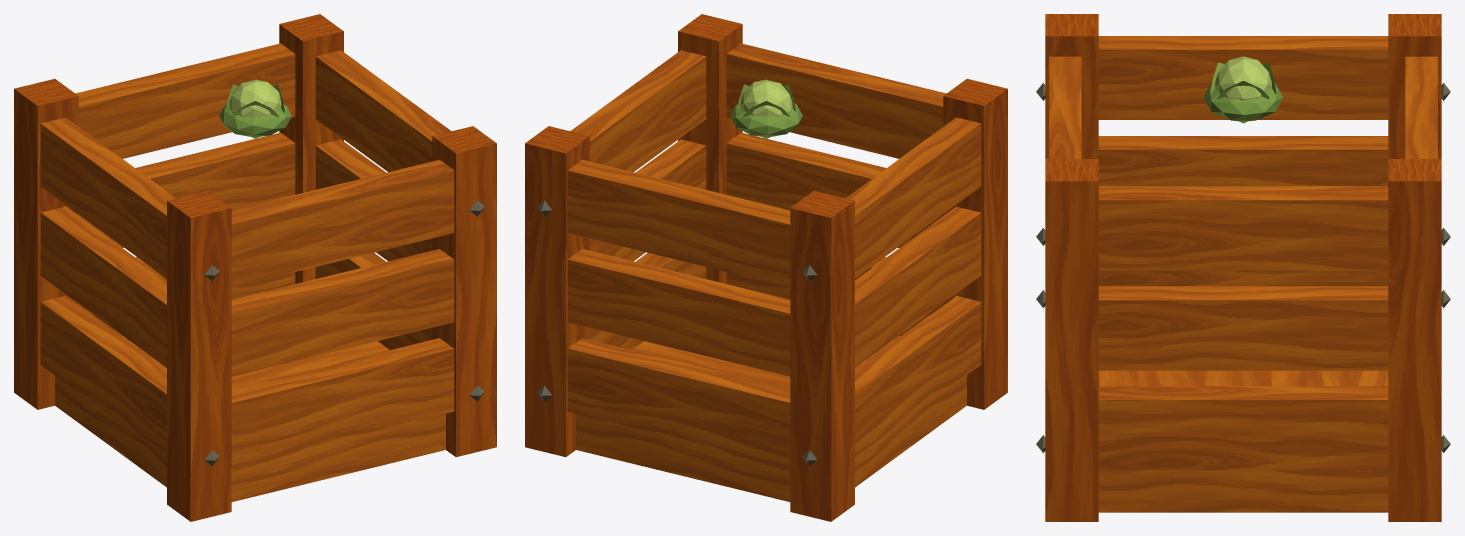
Rendered from farm-collection-box-4.gltf.
3 views of the same model, side by side, from view 1: azimuth 30°, elevation 25°; view 2: azimuth 150°, elevation 25°; view 3: azimuth 270°, elevation 25° (orthographic). The views are drawn at different scales.
Visible parts, largest first — view 1: farm-collection-box-4; view 2: farm-collection-box-4; view 3: farm-collection-box-4.
Boxes of the visible parts, x1,y1,x2,y2 form: farm-collection-box-4: (14,14,496,521); farm-collection-box-4: (525,14,1007,521); farm-collection-box-4: (1036,14,1450,521).
Size of the model in its own units: 0.8002 by 0.8448 by 0.8382.
2 materials, 1 textured.
